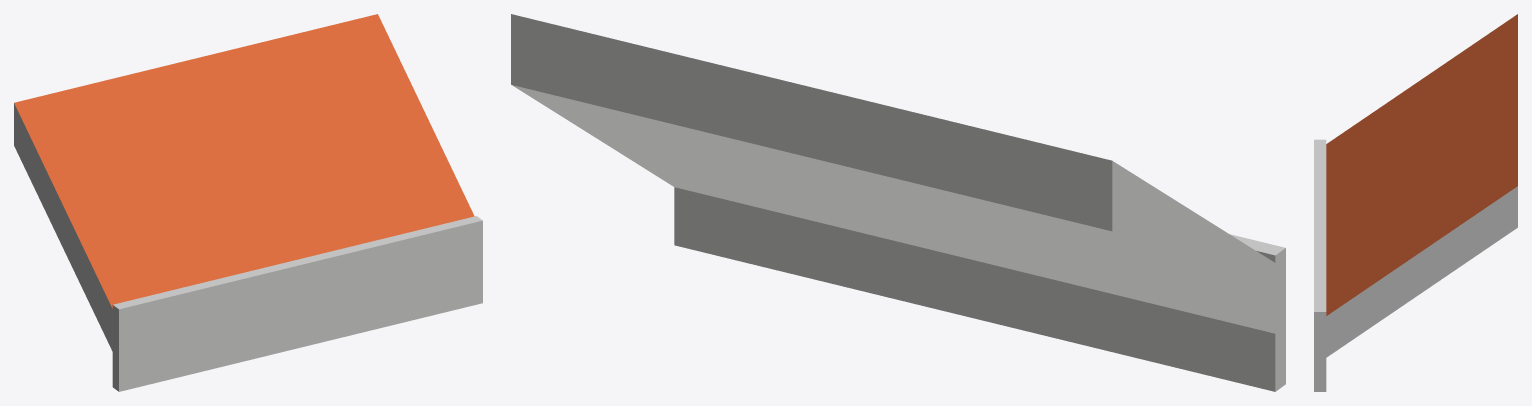
The model's file is telhado_beiral_i75_1m.glb.
3 renders of one model, left to right at view 1: azimuth 30°, elevation 25°; view 2: azimuth 150°, elevation 25°; view 3: azimuth 270°, elevation 25°, orthographic. The views are drawn at different scales.
Parts seen in each view (by area): view 1: telhado_beiral_i75_1m; view 2: telhado_beiral_i75_1m; view 3: telhado_beiral_i75_1m.
Part boxes in pixels (x1=…): telhado_beiral_i75_1m: x1=14, y1=14, x2=482, y2=391; telhado_beiral_i75_1m: x1=511, y1=14, x2=1285, y2=391; telhado_beiral_i75_1m: x1=1314, y1=14, x2=1517, y2=391.
Bounding box in the file's own units: 1 × 0.5575 × 0.5.
